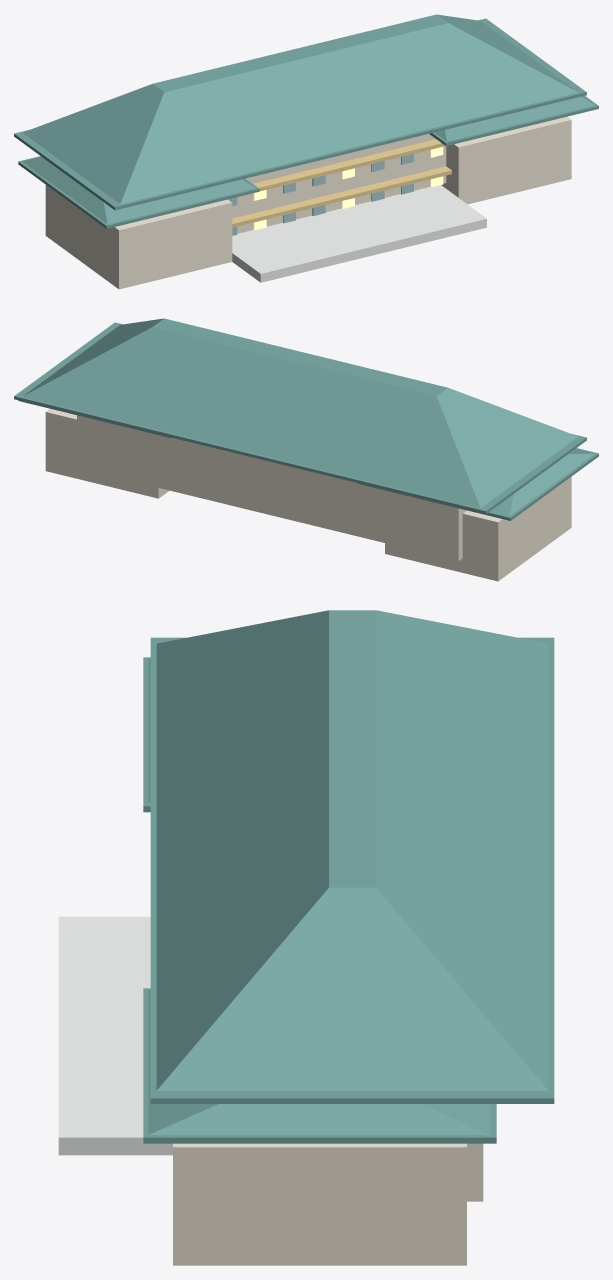
The model's file is museum.glb.
3 renders of one model, top to bottom at view 1: azimuth 30°, elevation 25°; view 2: azimuth 150°, elevation 25°; view 3: azimuth 270°, elevation 25°, orthographic. The views are drawn at different scales.
Parts seen in each view (by area): view 1: museum; view 2: museum; view 3: museum.
Boxes of the visible parts, box(x1,y1,x2,y2) form: museum: box(14, 14, 598, 289); museum: box(14, 318, 598, 581); museum: box(58, 610, 554, 1265).
Bounding box in the file's own units: 34.81 × 10 × 15.18.
